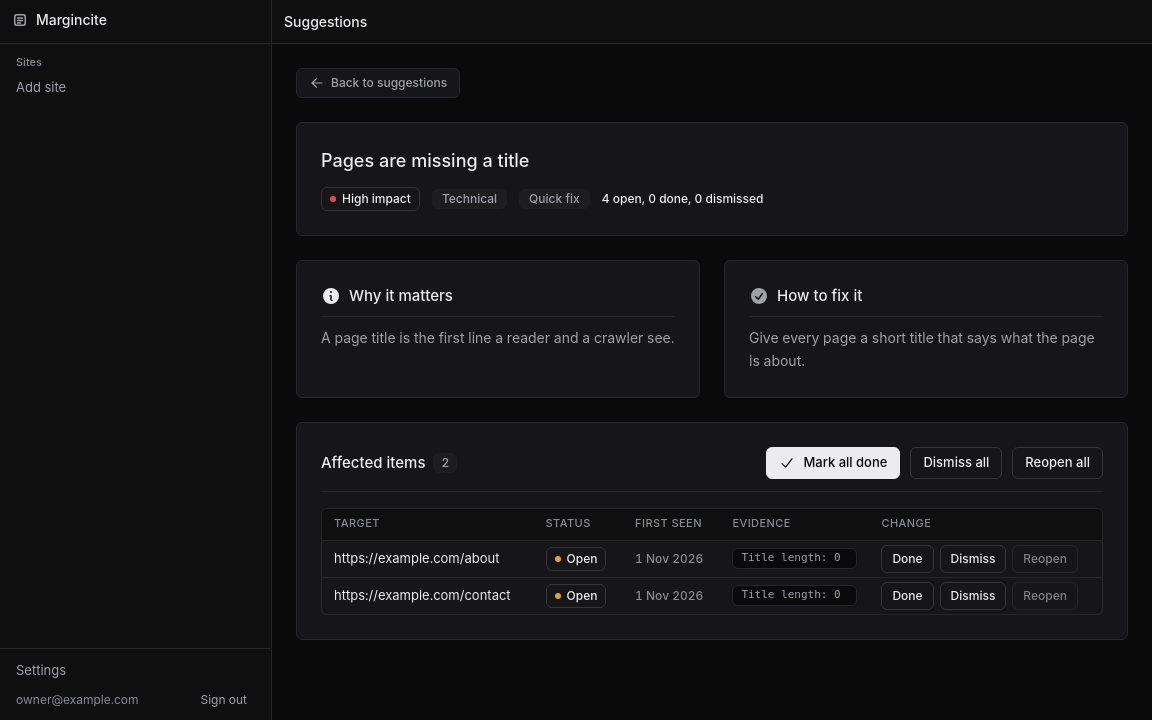
Scenario: marking every item done sends no targets
This screenshot has width=1152, height=720.
Click the button "Mark all done" at (833, 462), box [766, 446, 900, 478]
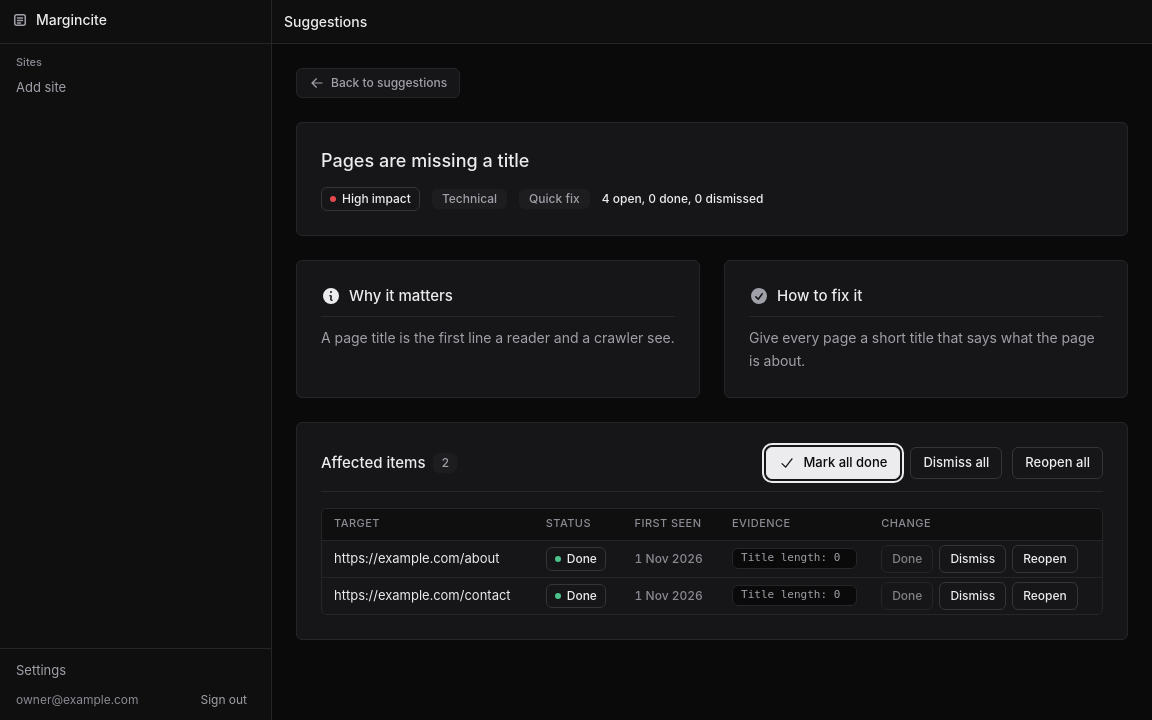
Expected: the element with class "tag" reads "Done", [567, 550, 597, 566]
